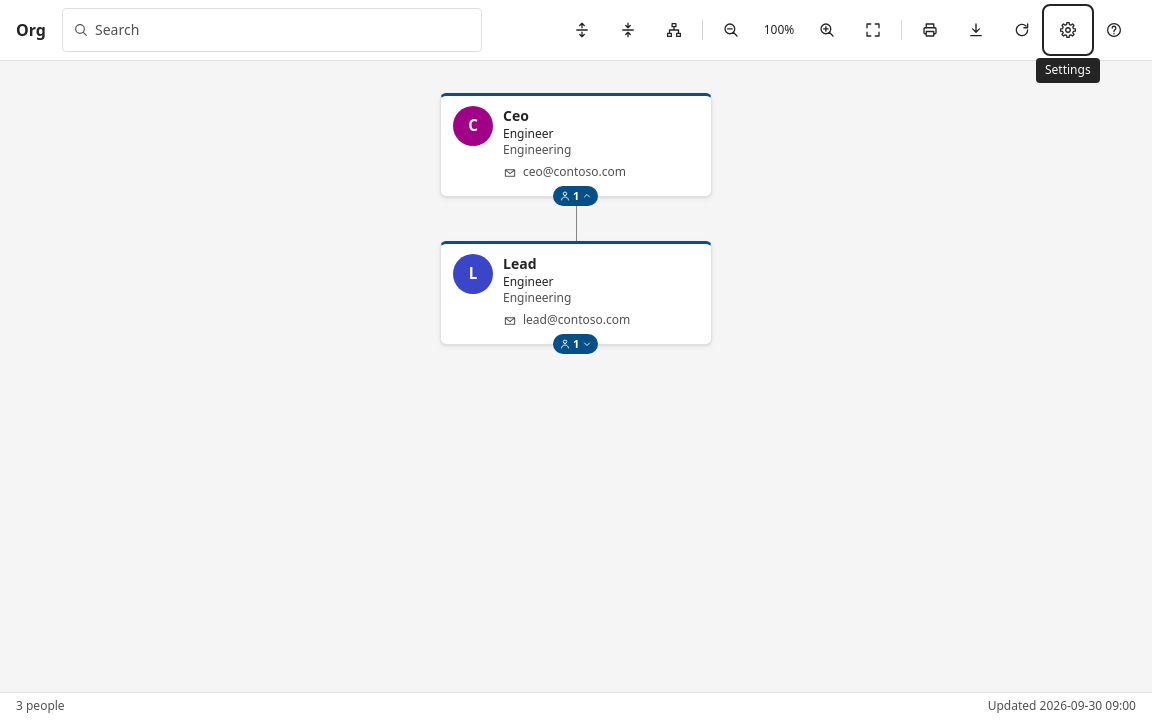
Test: OrgChartPage › the settings › open as a dialog from the toolbar, which is not part of the toolbar's arrow keys, and hand the focus back
Expected: the footer is shown, [0,692,1151,719]
Expected: the footer does not show ""
Click the button "Settings": (1068, 30) [1046,8,1090,52]
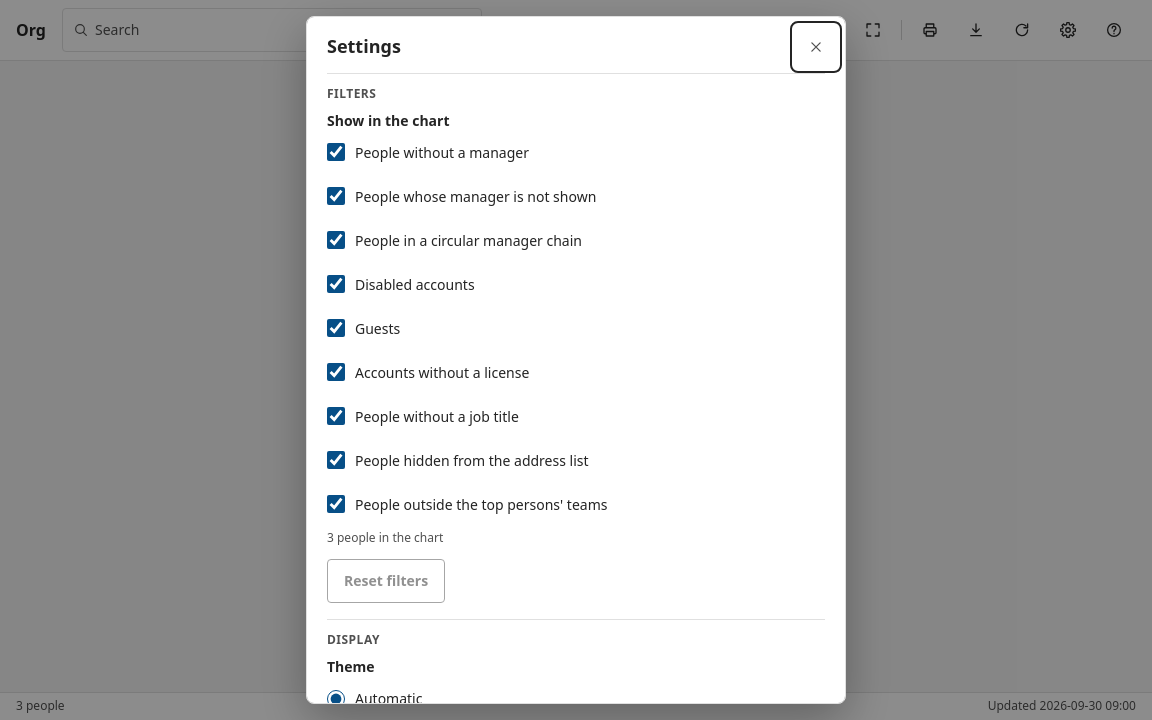
Click the button named "Close settings": (816, 47) [794,25,838,69]
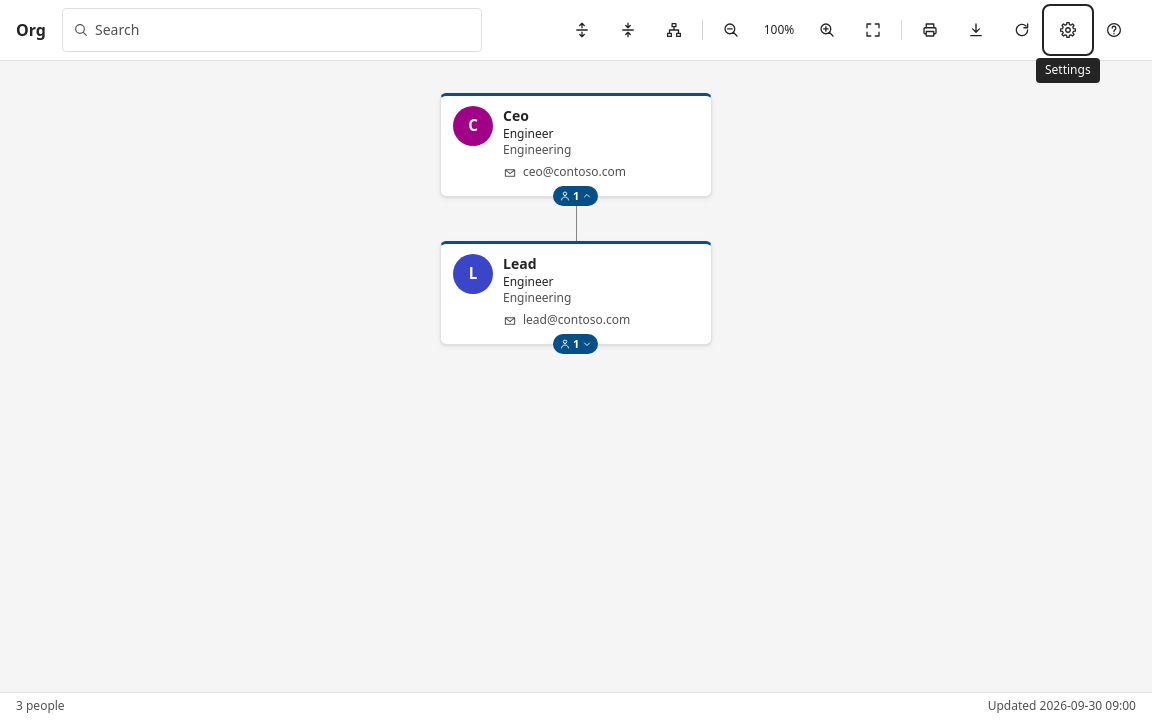
Now the checkbox is gone
